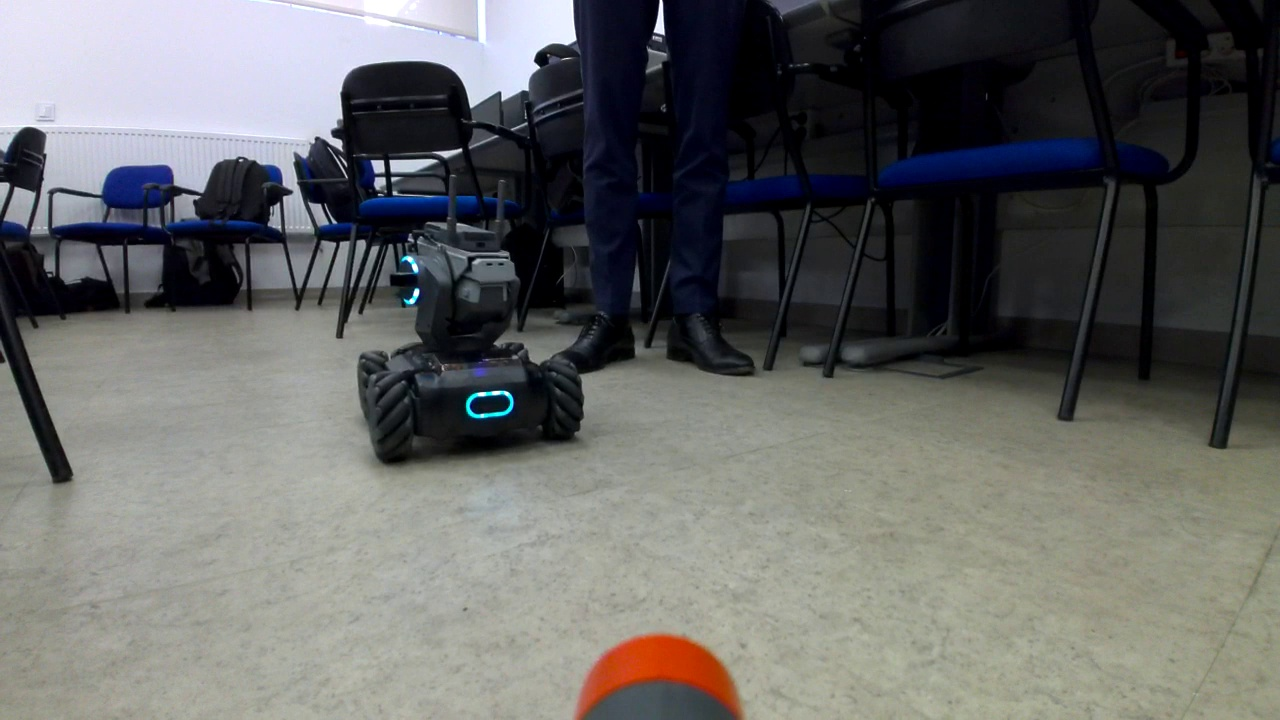robot: (357, 221, 586, 471)
